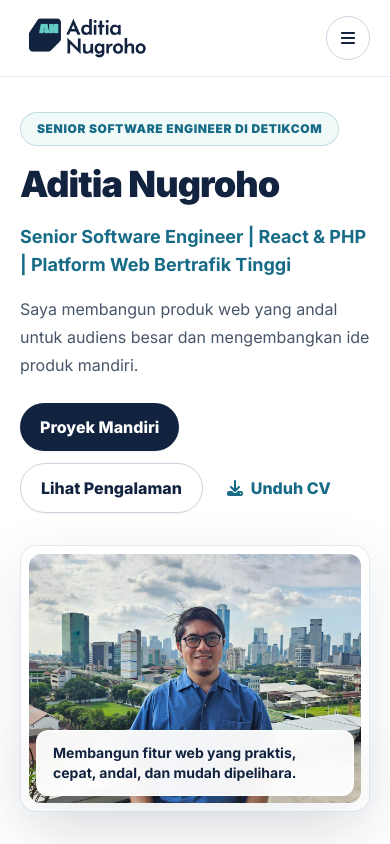
marks Indonesian language as active in the mobile menu
Click the button named "toggle mobile menu" at (348, 38), box [326,16,370,60]
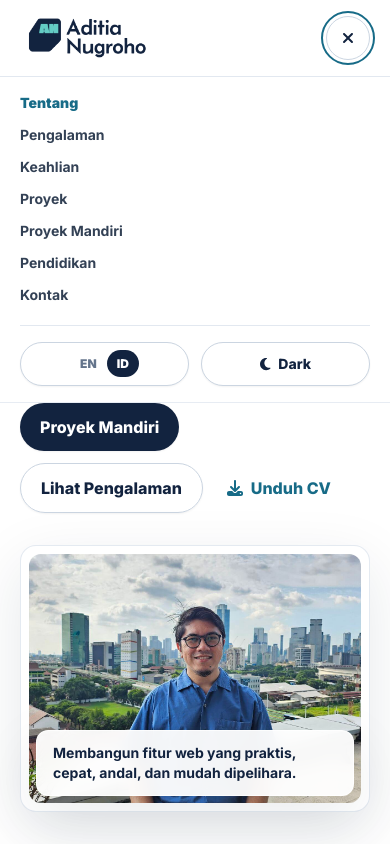
Expected: the text with class "is-active" reads "ID", [117,356,129,371]
